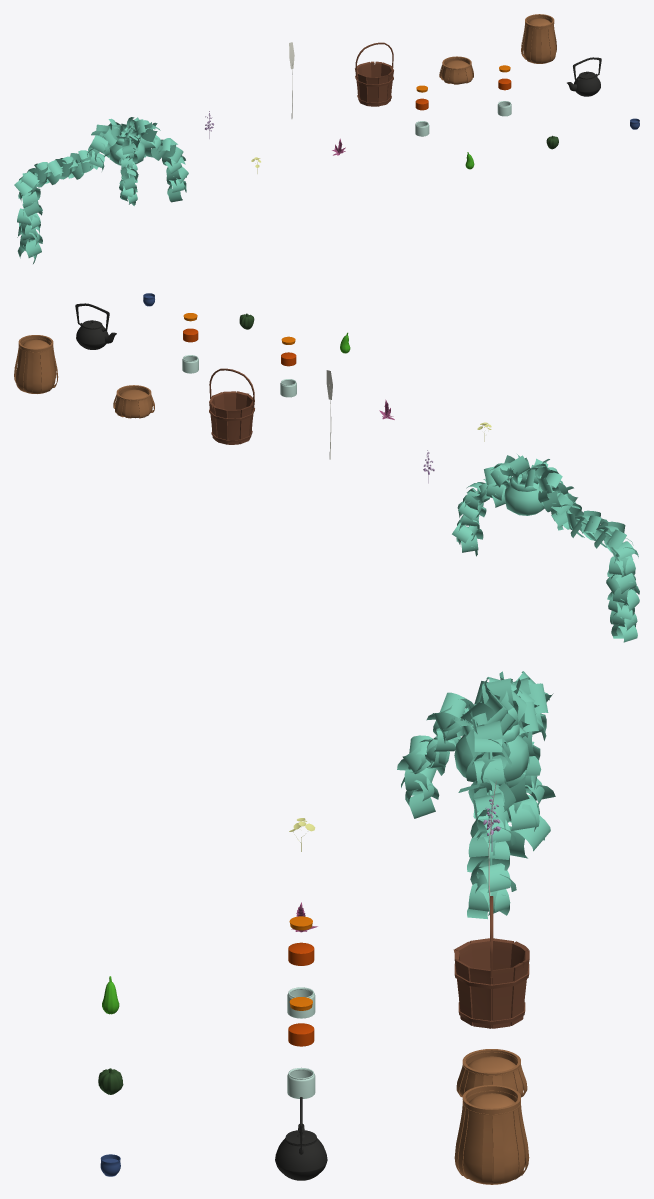
File: cmc_shaman_assets_01_ID.fbx
The picture shows the model from 3 angles, top to bottom: view 1: azimuth 30°, elevation 25°; view 2: azimuth 150°, elevation 25°; view 3: azimuth 270°, elevation 25°; orthographic projection. The views are drawn at different scales.
Visible parts, largest first — view 1: plant_vines_geo, bucket_geo_low, basket_tall_geo_low, basket_small_geo_low, teapot_geo_low, overgrown_plant_geo_low; view 2: plant_vines_geo, bucket_geo_low, basket_tall_geo_low, overgrown_plant_geo_low, basket_small_geo_low, teapot_geo_low; view 3: plant_vines_geo, bucket_geo_low, basket_tall_geo_low, teapot_geo_low, basket_small_geo_low, overgrown_plant_geo_low, tea_jar_02_geo_low.
Boxes of the visible parts, x1,y1,x2,y2 form: plant_vines_geo: [14, 117, 188, 263]; bucket_geo_low: [355, 61, 393, 106]; basket_tall_geo_low: [521, 14, 556, 63]; basket_small_geo_low: [439, 56, 473, 84]; teapot_geo_low: [567, 71, 600, 96]; overgrown_plant_geo_low: [109, 131, 145, 165]; plant_vines_geo: [452, 454, 639, 642]; bucket_geo_low: [209, 391, 254, 444]; basket_tall_geo_low: [14, 335, 58, 393]; overgrown_plant_geo_low: [504, 477, 544, 515]; basket_small_geo_low: [113, 385, 154, 418]; teapot_geo_low: [76, 320, 116, 349]; plant_vines_geo: [397, 671, 555, 919]; bucket_geo_low: [453, 938, 529, 1028]; basket_tall_geo_low: [454, 1085, 529, 1184]; teapot_geo_low: [275, 1124, 327, 1180]; basket_small_geo_low: [456, 1049, 527, 1097]; overgrown_plant_geo_low: [454, 722, 529, 782]; tea_jar_02_geo_low: [287, 1067, 315, 1098].
Bounding box in the file's own units: 6.45 × 1.87 × 2.4.
